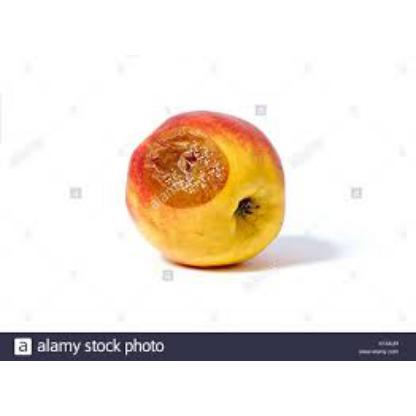apple: (119, 106, 285, 262)
